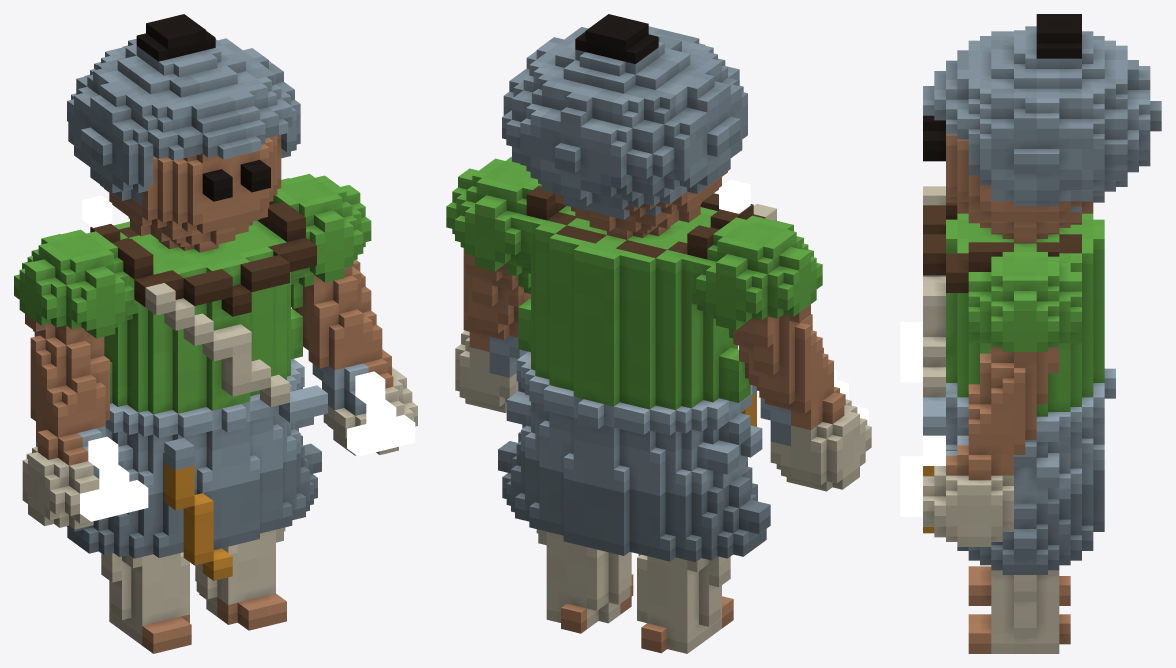
Rendered from u_moine__receleur.glb.
The picture shows the model from 3 angles, left to right: view 1: azimuth 30°, elevation 25°; view 2: azimuth 150°, elevation 25°; view 3: azimuth 270°, elevation 25°; orthographic projection. The views are drawn at different scales.
Visible parts, largest first — view 1: moine_body, moine_glow; view 2: moine_body, moine_glow; view 3: moine_body, moine_glow.
Part boxes in pixels (<box>): moine_body: <box>14,14,417,653</box>; moine_glow: <box>80,195,415,521</box>; moine_body: <box>446,14,871,653</box>; moine_glow: <box>719,179,868,425</box>; moine_body: <box>923,14,1161,653</box>; moine_glow: <box>900,322,945,516</box>.
Bounding box in the file's own units: 0.95 × 1.45 × 0.575.
